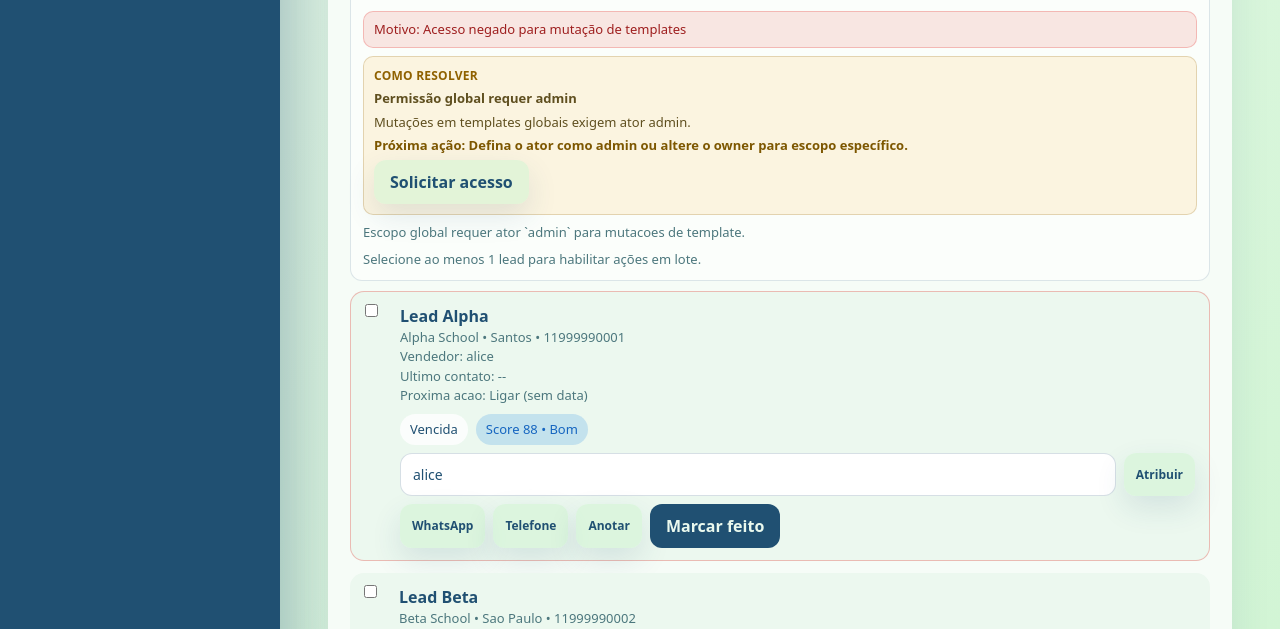
Test: SDR page › sends batch note request and shows success feedback
This screenshot has width=1280, height=629.
(page scrolled)
Expected: the text "Lead Alpha" is shown, top-left (400, 304), bottom-right (489, 326)
Expected: the text "Lead Beta" is shown, top-left (399, 586), bottom-right (478, 608)
Click the checkbox named "Selecionar lead 1" at (372, 310), box top-left (365, 304), bottom-right (378, 316)
(page scrolled)
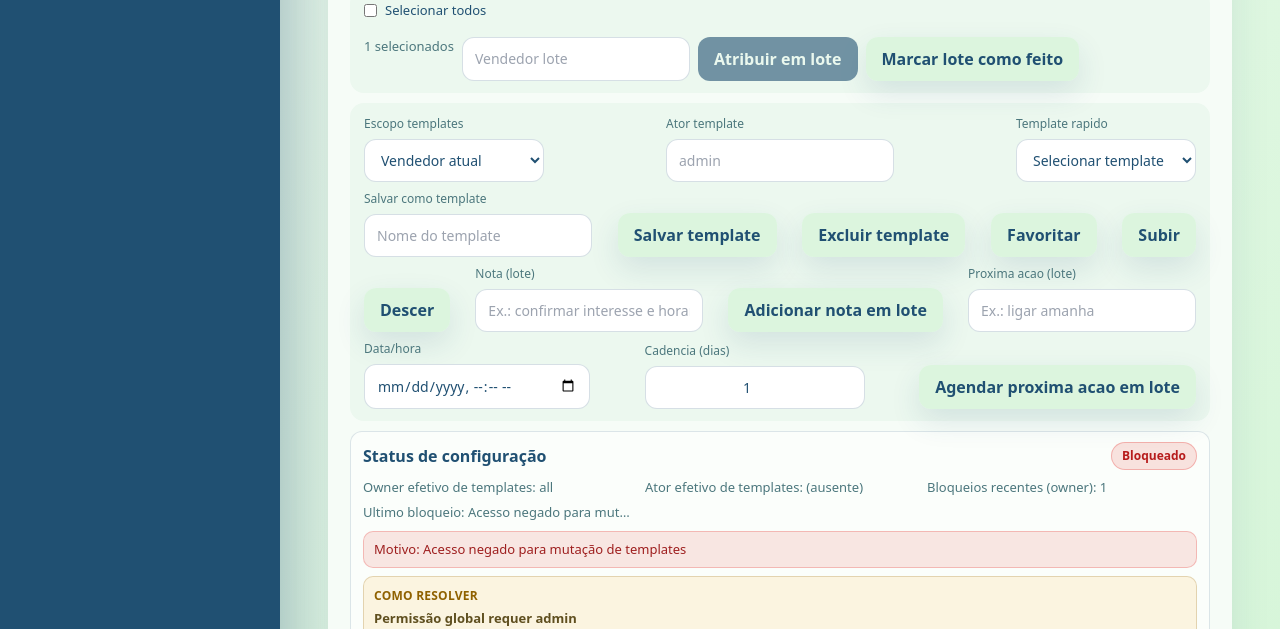
Type "Retornar no periodo da tarde" into the field with placeholder "Ex.: confirmar interesse e horario" at (589, 310), box top-left (475, 288), bottom-right (703, 332)
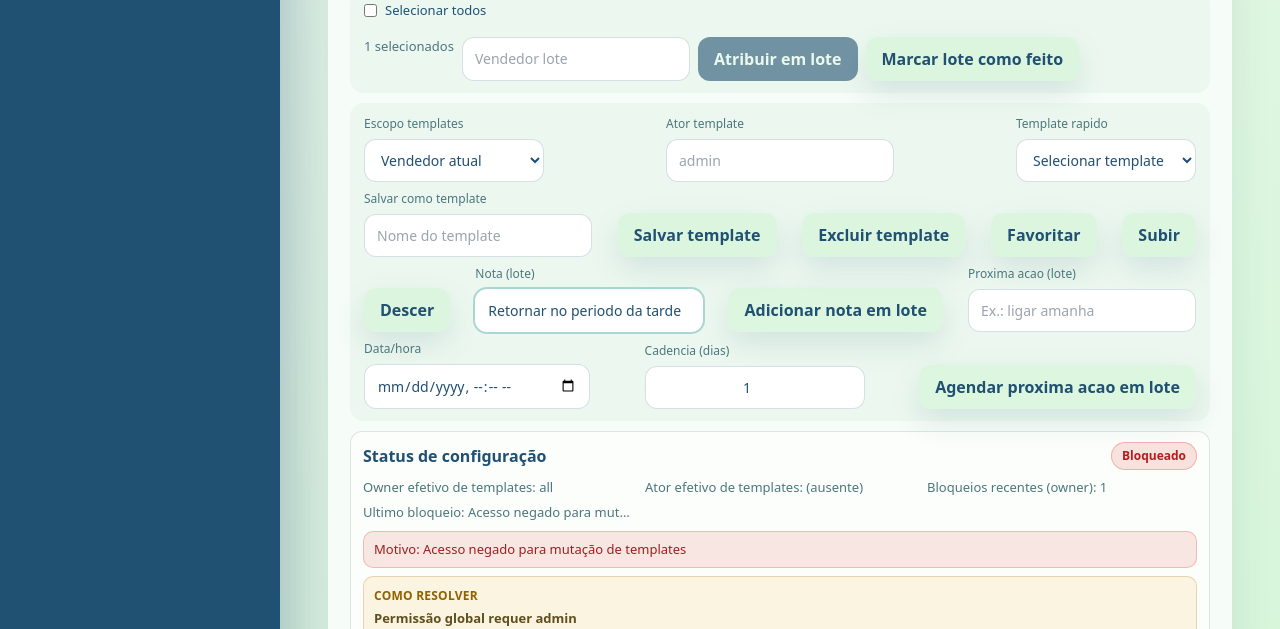
Click the button "Adicionar nota em lote" at (836, 310), box top-left (728, 288), bottom-right (943, 332)
(page scrolled)
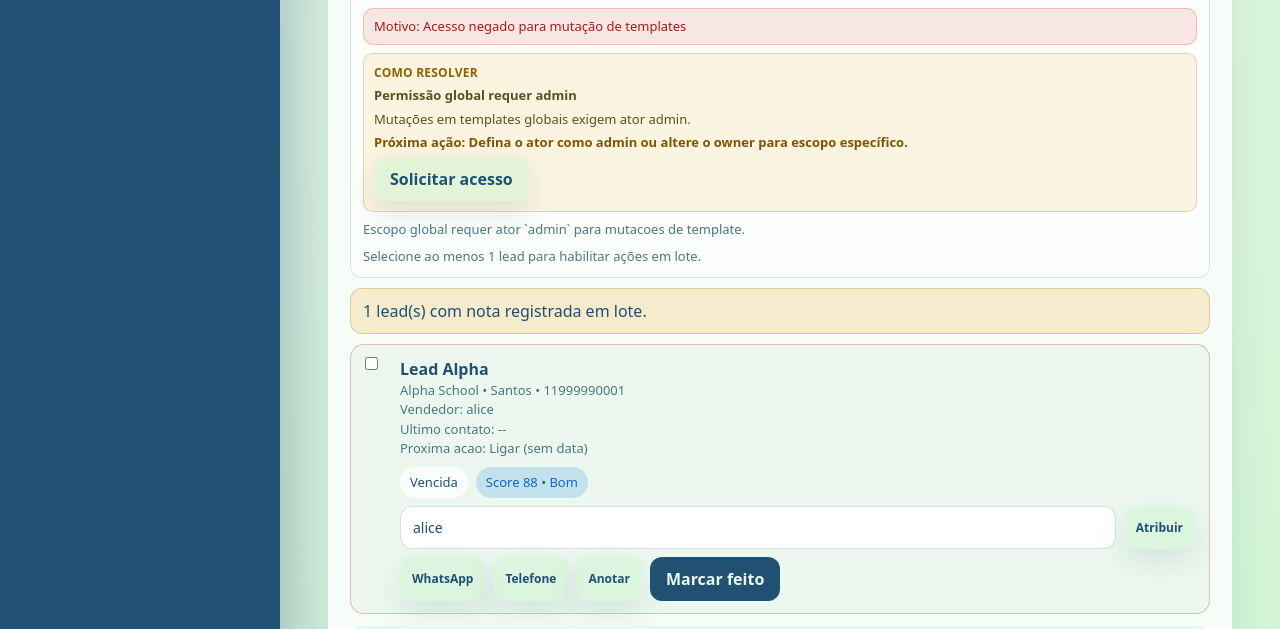
Expected: the text "1 lead(s) com nota registrada em lote." is shown, top-left (350, 288), bottom-right (1210, 334)
